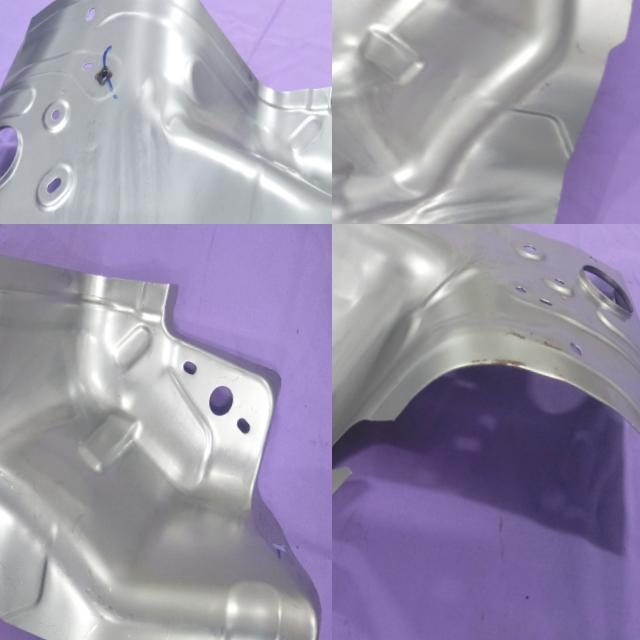Defect: (332, 410, 397, 482)
Healthy: (0, 224, 332, 640), (0, 0, 332, 224), (332, 0, 640, 224)
rust: (444, 311, 591, 391)
